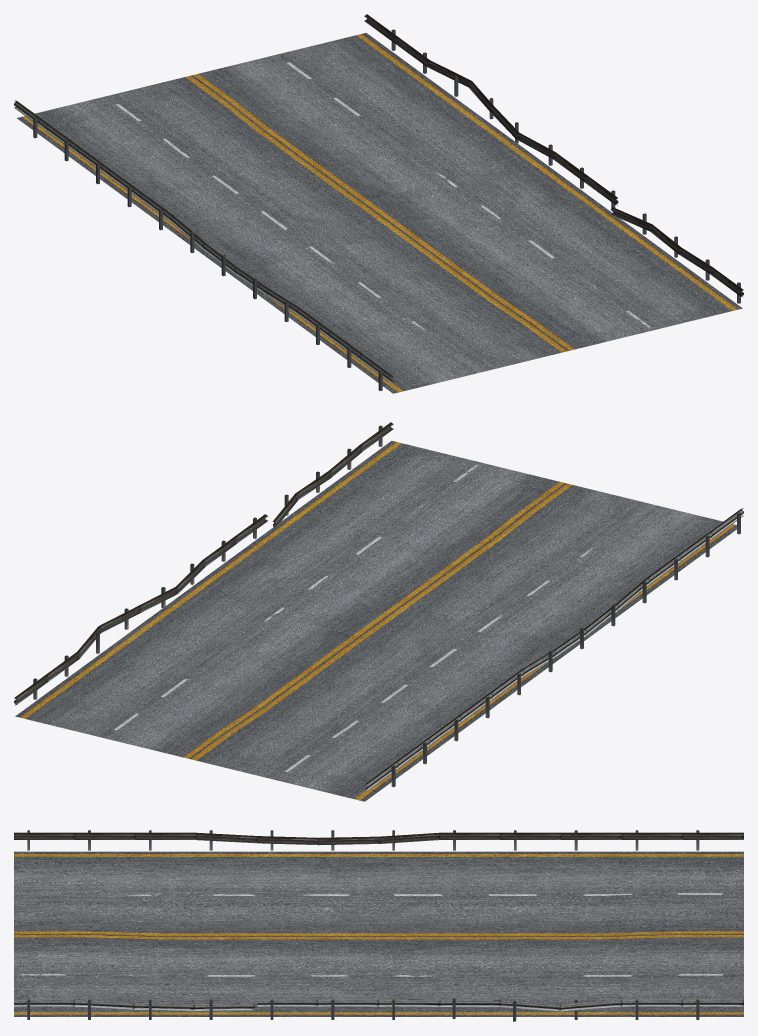
The model's file is road_ruined1.fbx.
3 renders of one model, top to bottom at view 1: azimuth 30°, elevation 25°; view 2: azimuth 150°, elevation 25°; view 3: azimuth 270°, elevation 25°, orthographic. The views are drawn at different scales.
Visible parts, largest first — view 1: road, guardrail1, guardrail2; view 2: road, guardrail1, guardrail2; view 3: road, guardrail2, guardrail1.
Part boxes in pixels (box(x1,y1,x2,y2)): road: box(17, 33, 742, 393); guardrail1: box(14, 100, 393, 390); guardrail2: box(364, 14, 743, 303); road: box(15, 441, 736, 801); guardrail1: box(364, 508, 743, 791); guardrail2: box(14, 422, 393, 705); road: box(14, 851, 743, 1016); guardrail2: box(14, 998, 743, 1021); guardrail1: box(14, 830, 743, 850).
Size of the model in its own units: 210 by 11.6 by 373.
2 materials, 2 textured.
